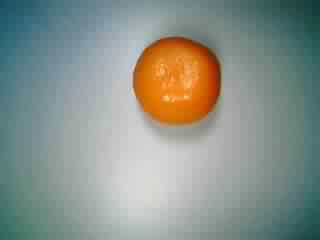orange: (129, 35, 225, 131)
